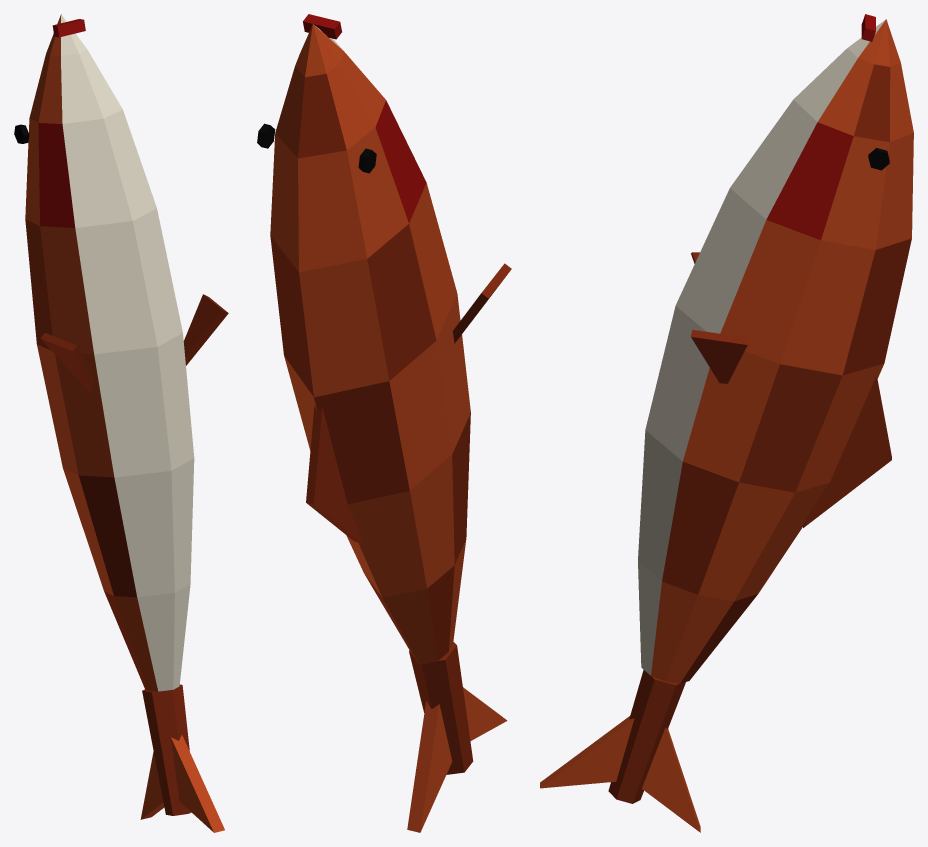
File: SM_Wep_Fun_Trout.glb
3 renders of one model, left to right at view 1: azimuth 30°, elevation 25°; view 2: azimuth 150°, elevation 25°; view 3: azimuth 270°, elevation 25°, orthographic. The views are drawn at different scales.
Parts seen in each view (by area): view 1: SM_Wep_Fun_Trout; view 2: SM_Wep_Fun_Trout; view 3: SM_Wep_Fun_Trout.
Part boxes in pixels (box(x1,y1,x2,y2)): SM_Wep_Fun_Trout: box(14, 14, 228, 832); SM_Wep_Fun_Trout: box(257, 14, 511, 832); SM_Wep_Fun_Trout: box(540, 14, 913, 832).
Size of the model in its own units: 0.1523 by 0.6391 by 0.2671.
1 material, 1 textured.
